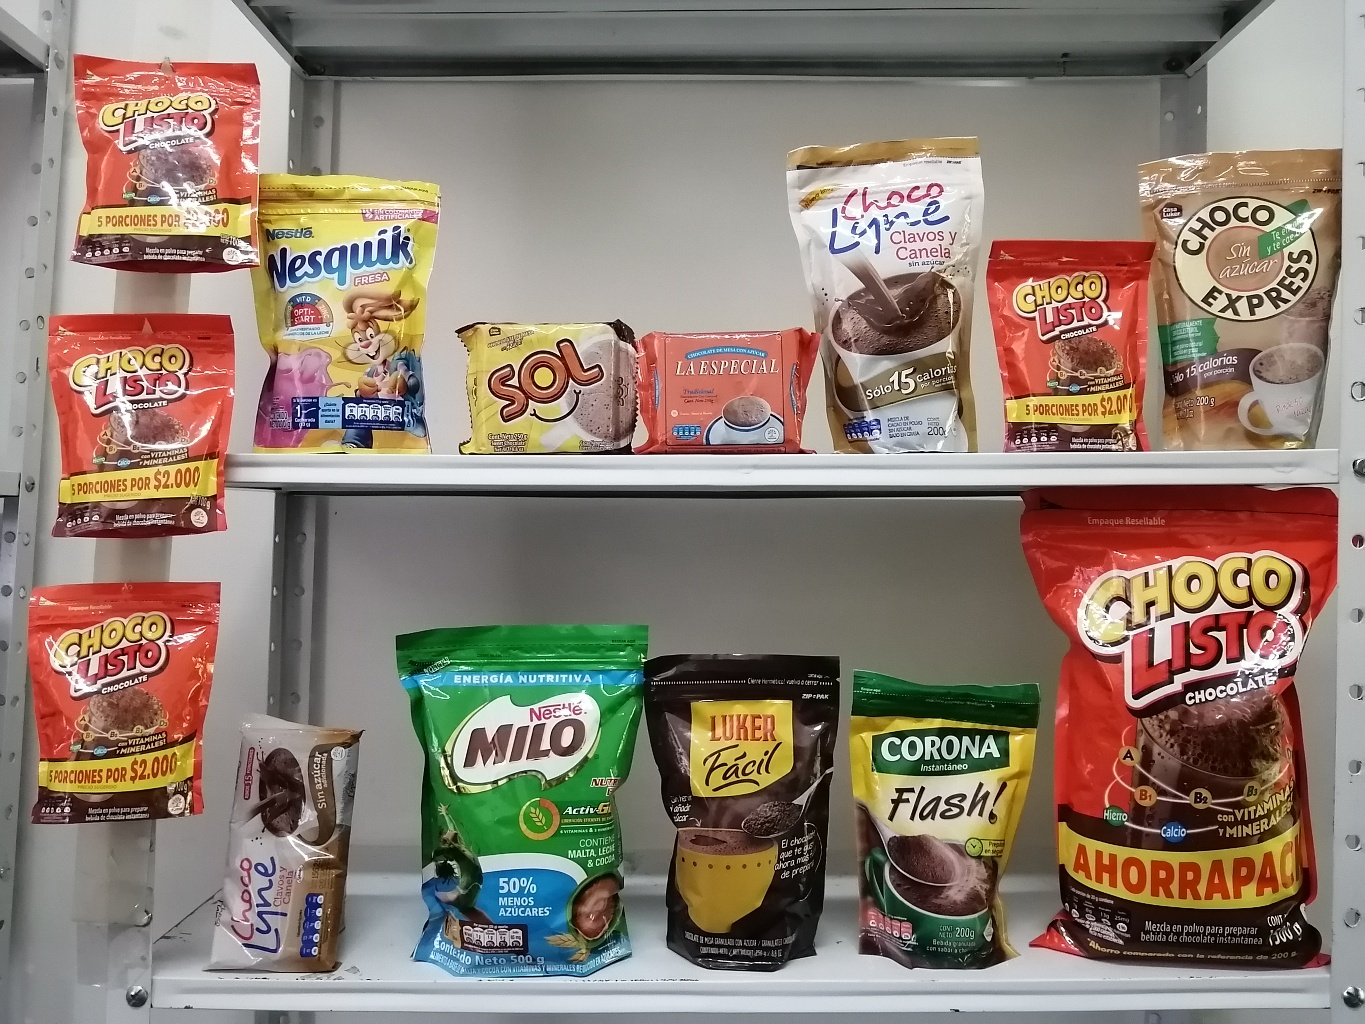COL0170103DYP1,500: (1023, 502, 1348, 964)
COL0170205DYP50000: (396, 624, 655, 972)
COL0170305DYP20000: (241, 167, 447, 443)
